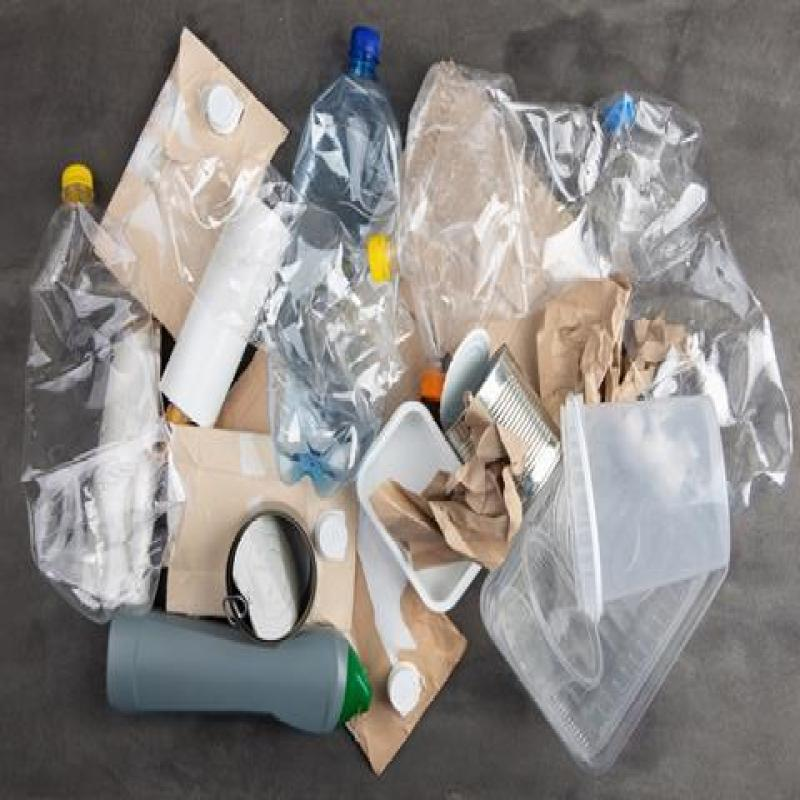botella: (571, 82, 795, 501), (125, 120, 410, 428), (364, 55, 606, 370), (17, 162, 183, 614), (278, 18, 403, 485)
